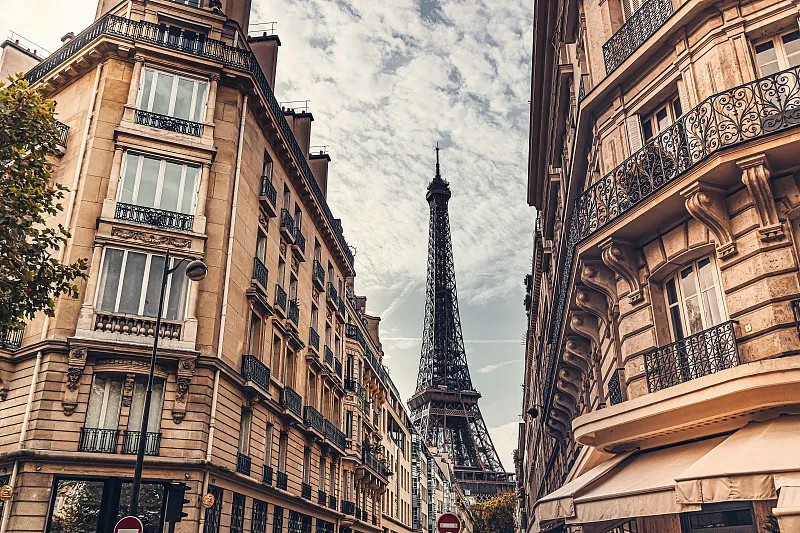Eiffel: (404, 141, 515, 495)
